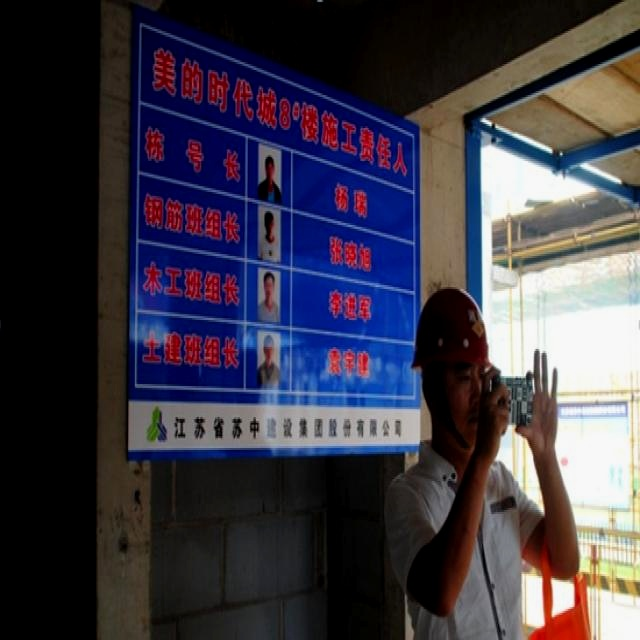Con_Casco: (415, 287, 492, 449)
